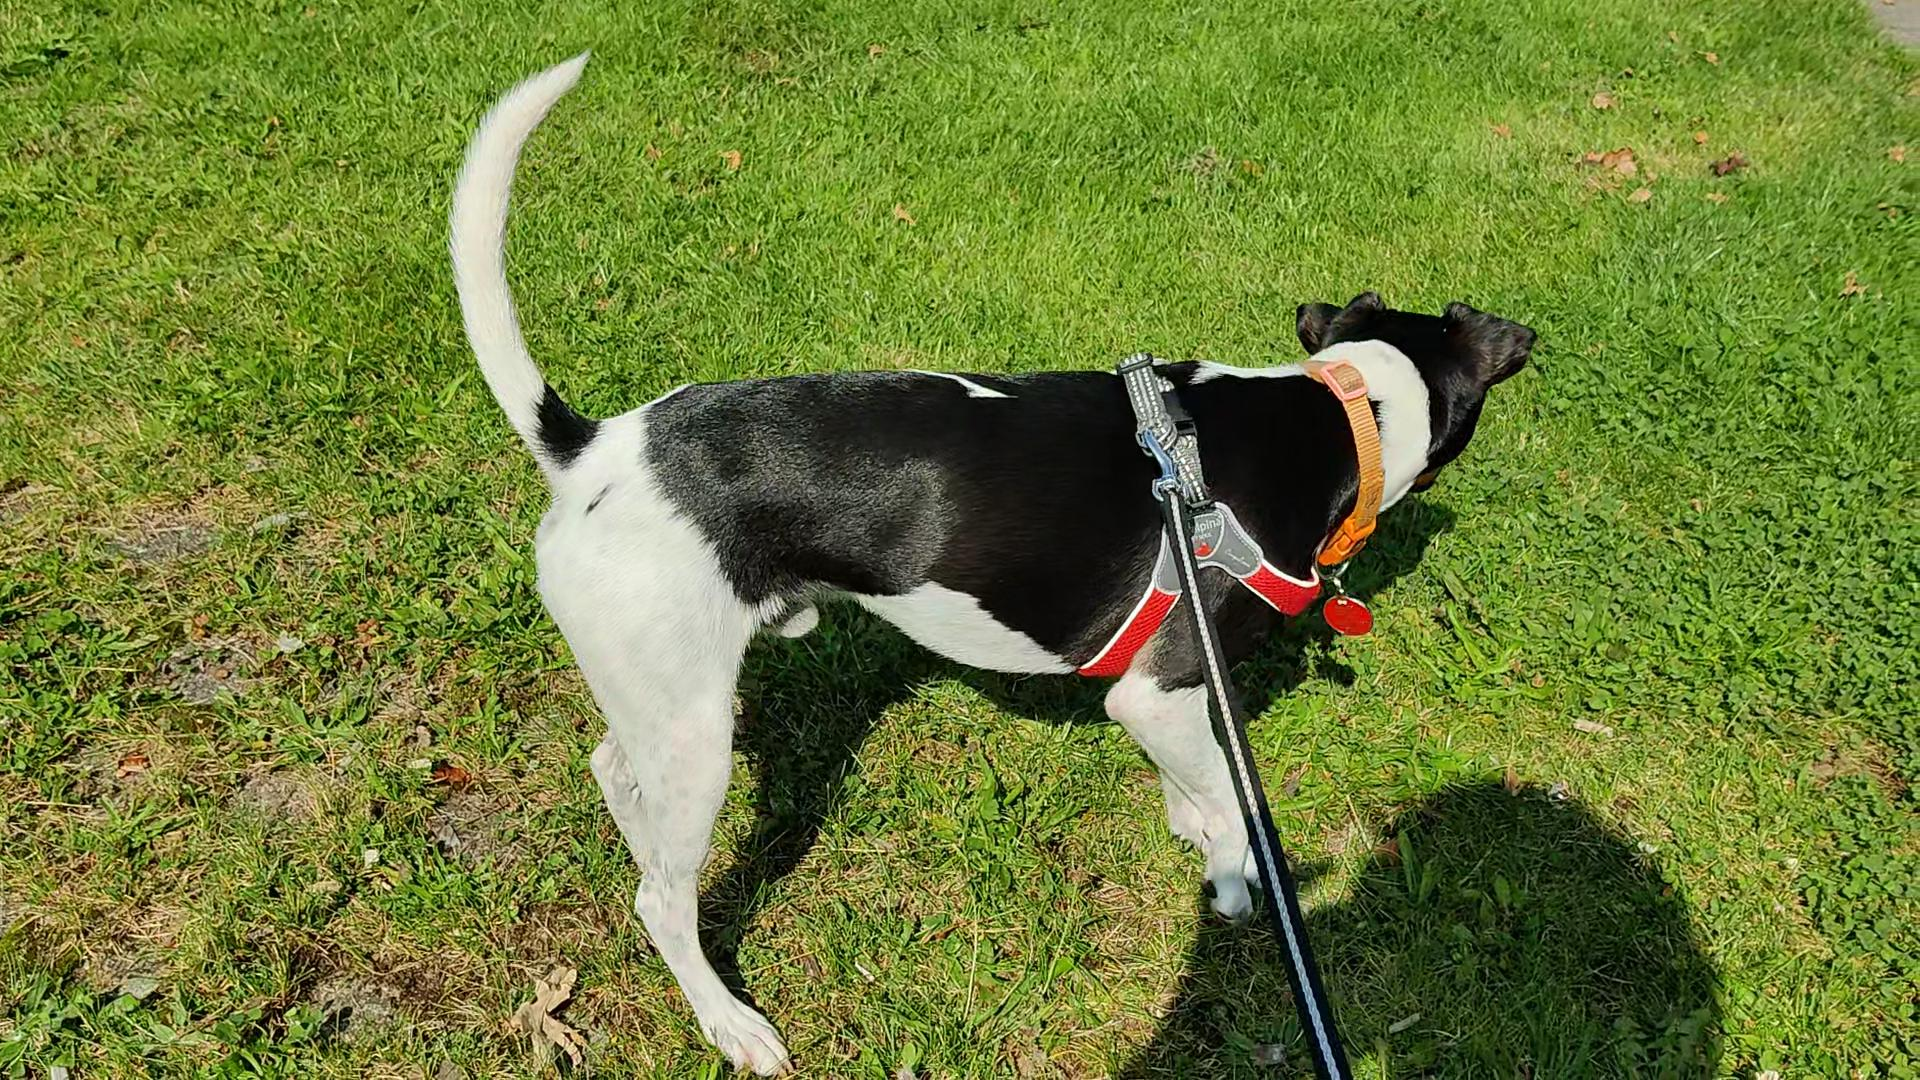Dog: (436, 44, 1545, 1079)
